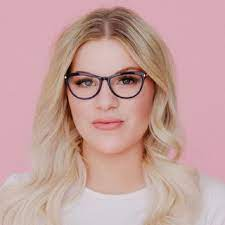g.y: (69, 71, 100, 102)
